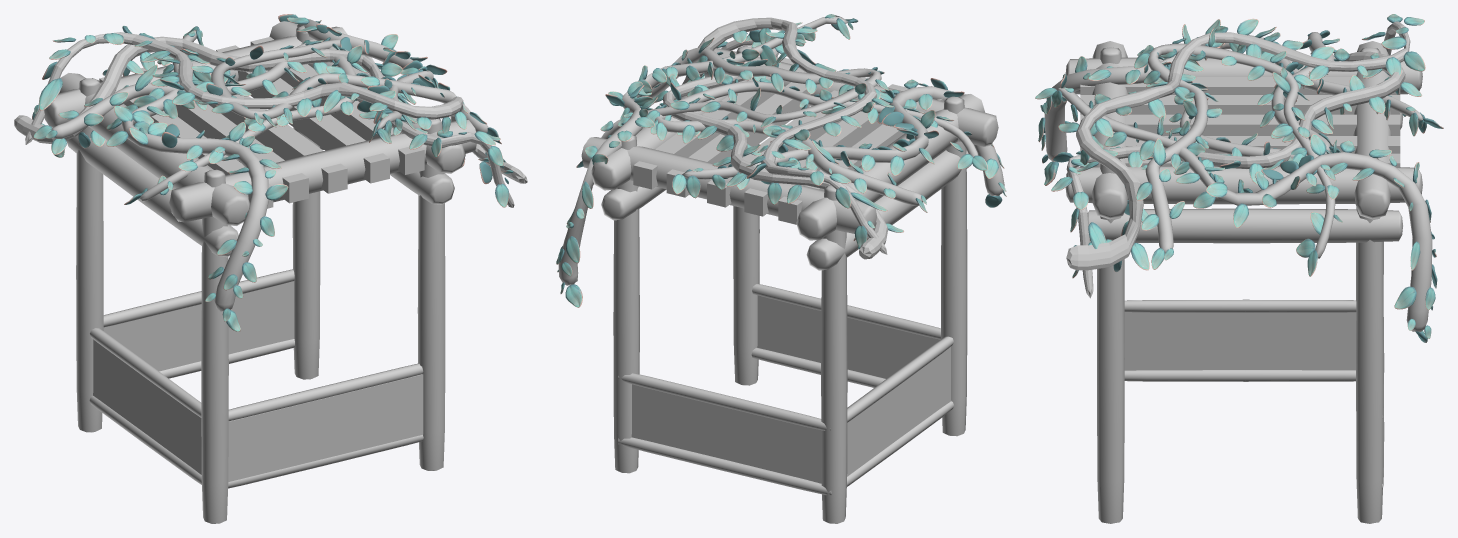
Rendered from shop.fbx.
3 renders of one model, left to right at view 1: azimuth 30°, elevation 25°; view 2: azimuth 150°, elevation 25°; view 3: azimuth 270°, elevation 25°, orthographic. The views are drawn at different scales.
Parts seen in each view (by area): view 1: market:tingsheng111:tingzi1, pCylinder1, market:pCylinder2, market:pCylinder1, pCylinder3, market:pCylinder3, pCylinder2; view 2: market:tingsheng111:tingzi1, pCylinder1, market:pCylinder3, pCylinder3, market:pCylinder2, market:pCylinder1, pCylinder2; view 3: market:tingsheng111:tingzi1, pCylinder1, pCylinder2, pCylinder3, market:pCylinder1, market:pCylinder2, market:pCylinder3.
Boxes of the visible parts, left/top/right/bottom form: market:tingsheng111:tingzi1: left=44, top=21, right=476, bottom=523; pCylinder1: left=25, top=32, right=527, bottom=183; market:pCylinder2: left=121, top=30, right=268, bottom=311; market:pCylinder1: left=14, top=36, right=514, bottom=207; pCylinder3: left=211, top=39, right=488, bottom=132; market:pCylinder3: left=51, top=43, right=355, bottom=201; pCylinder2: left=297, top=19, right=433, bottom=149; market:tingsheng111:tingzi1: left=581, top=46, right=998, bottom=523; pCylinder1: left=682, top=17, right=887, bottom=254; market:pCylinder3: left=654, top=81, right=978, bottom=205; pCylinder3: left=601, top=47, right=881, bottom=138; market:pCylinder2: left=682, top=86, right=1004, bottom=195; market:pCylinder1: left=663, top=40, right=888, bottom=259; pCylinder2: left=558, top=15, right=848, bottom=285; market:tingsheng111:tingzi1: left=1065, top=41, right=1422, bottom=523; pCylinder1: left=1066, top=21, right=1410, bottom=270; pCylinder2: left=1057, top=88, right=1432, bottom=331; pCylinder3: left=1145, top=43, right=1335, bottom=258; market:pCylinder1: left=1066, top=51, right=1405, bottom=298; market:pCylinder2: left=1044, top=35, right=1422, bottom=161; market:pCylinder3: left=1179, top=32, right=1334, bottom=158.
Size of the model in its own units: 426 by 414 by 379.
